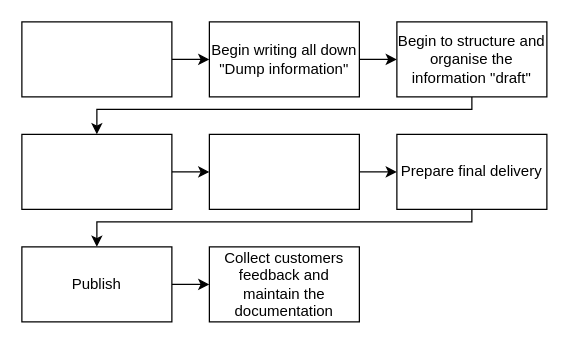
This 569x344 diagram has some shape labels left out. Here are the shapes that lost their labels. From the top down, the centre of each, then its label:
At (x=96, y=59): "Research and collect information".
At (x=96, y=171): "Present to stakeholders and collect feedback".
At (x=283, y=171): "Reflect the feedback in the documentation".
